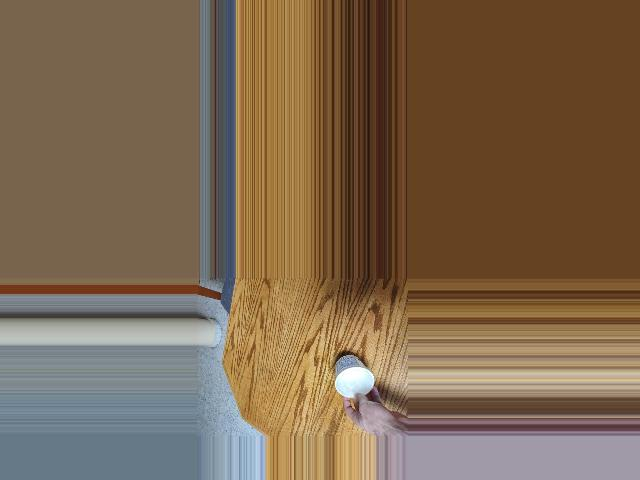cotage: (336, 356, 371, 401)
